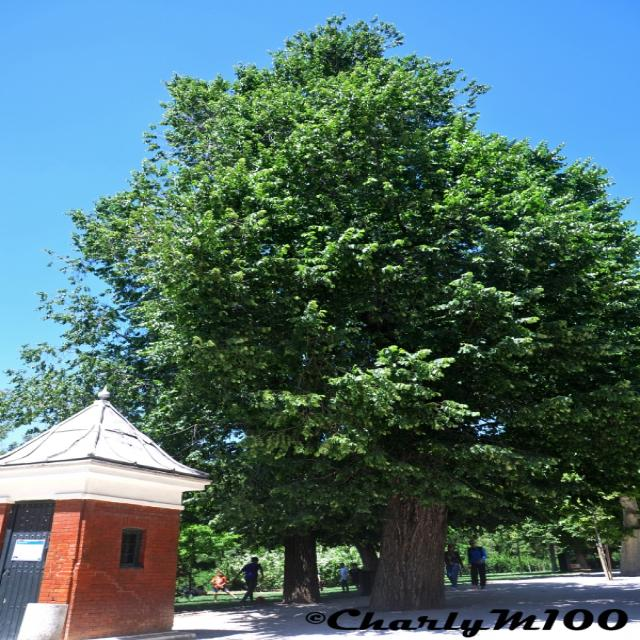olmo: (80, 29, 637, 612)
